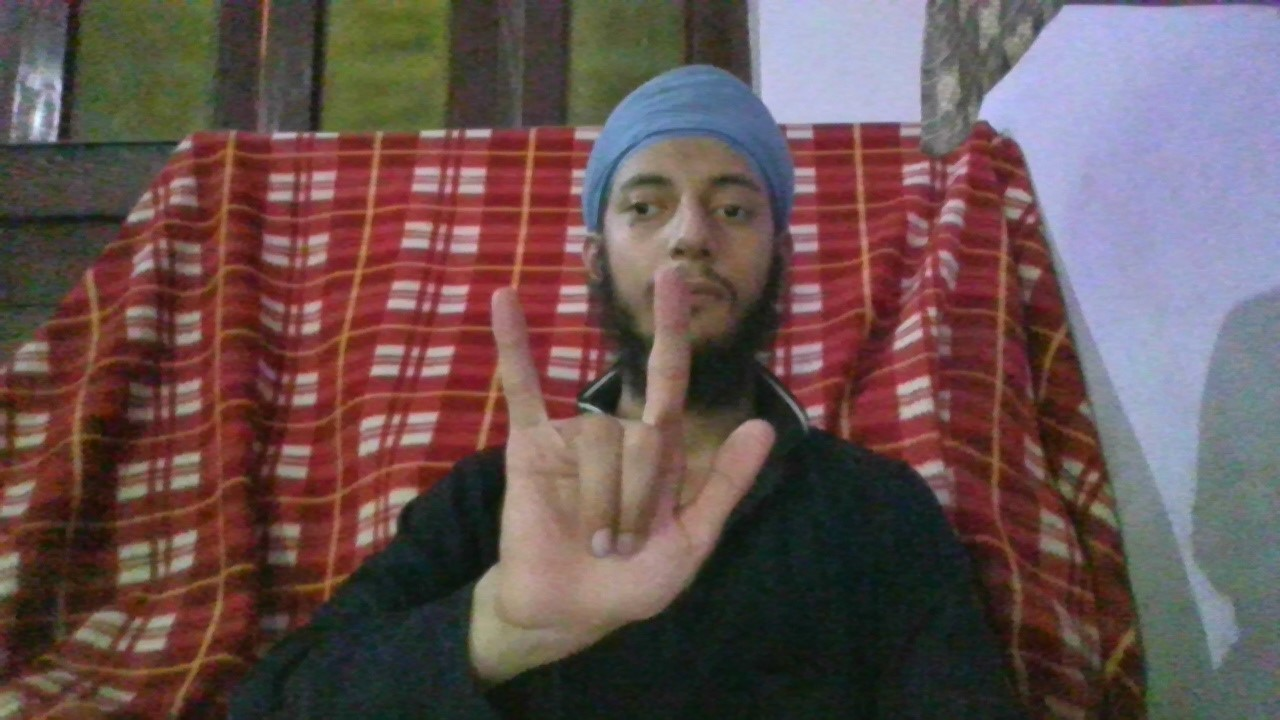I Love You: (485, 272, 777, 632)
